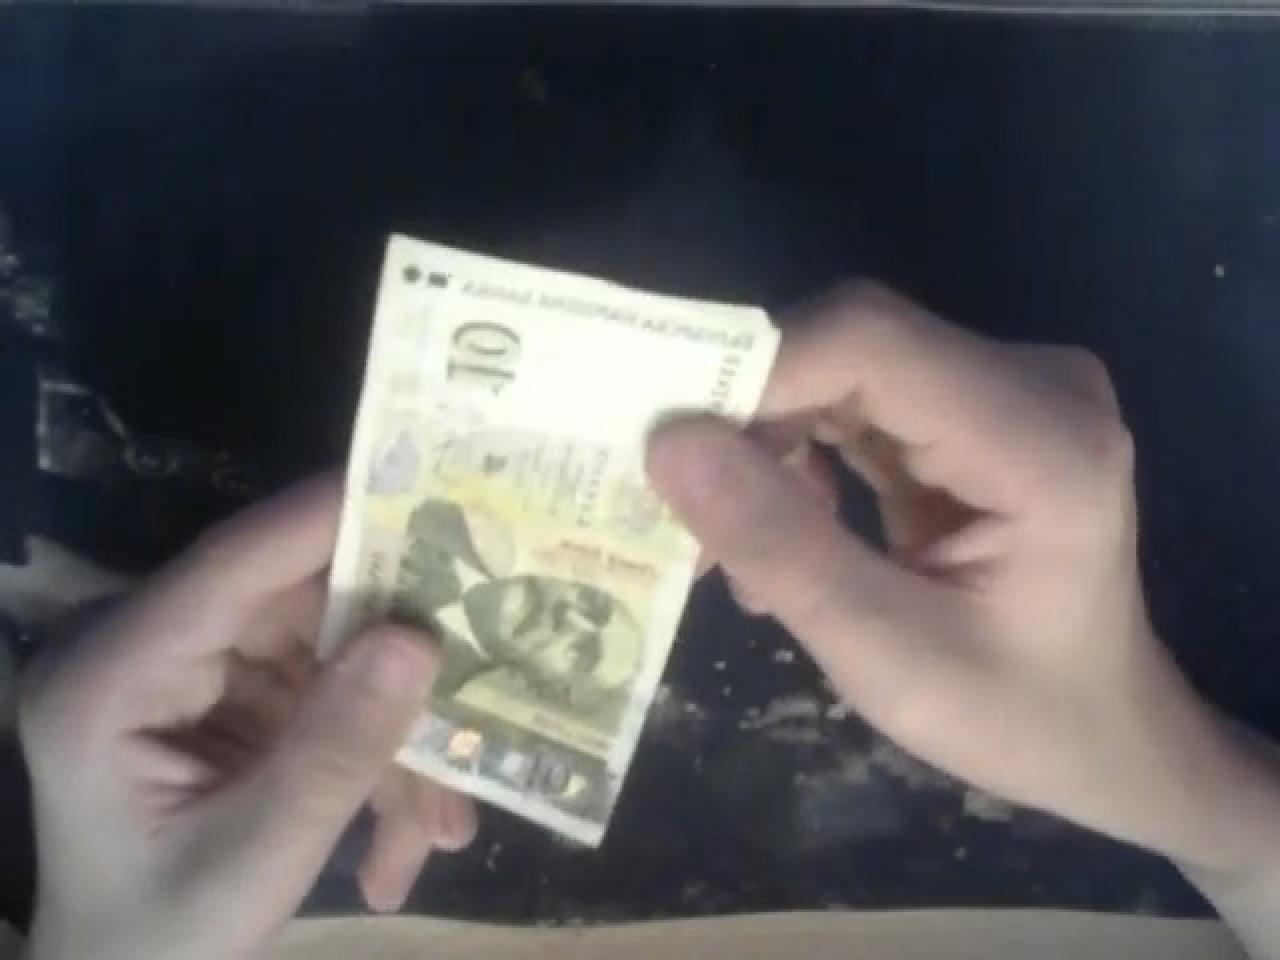10leva: (314, 229, 786, 848)
